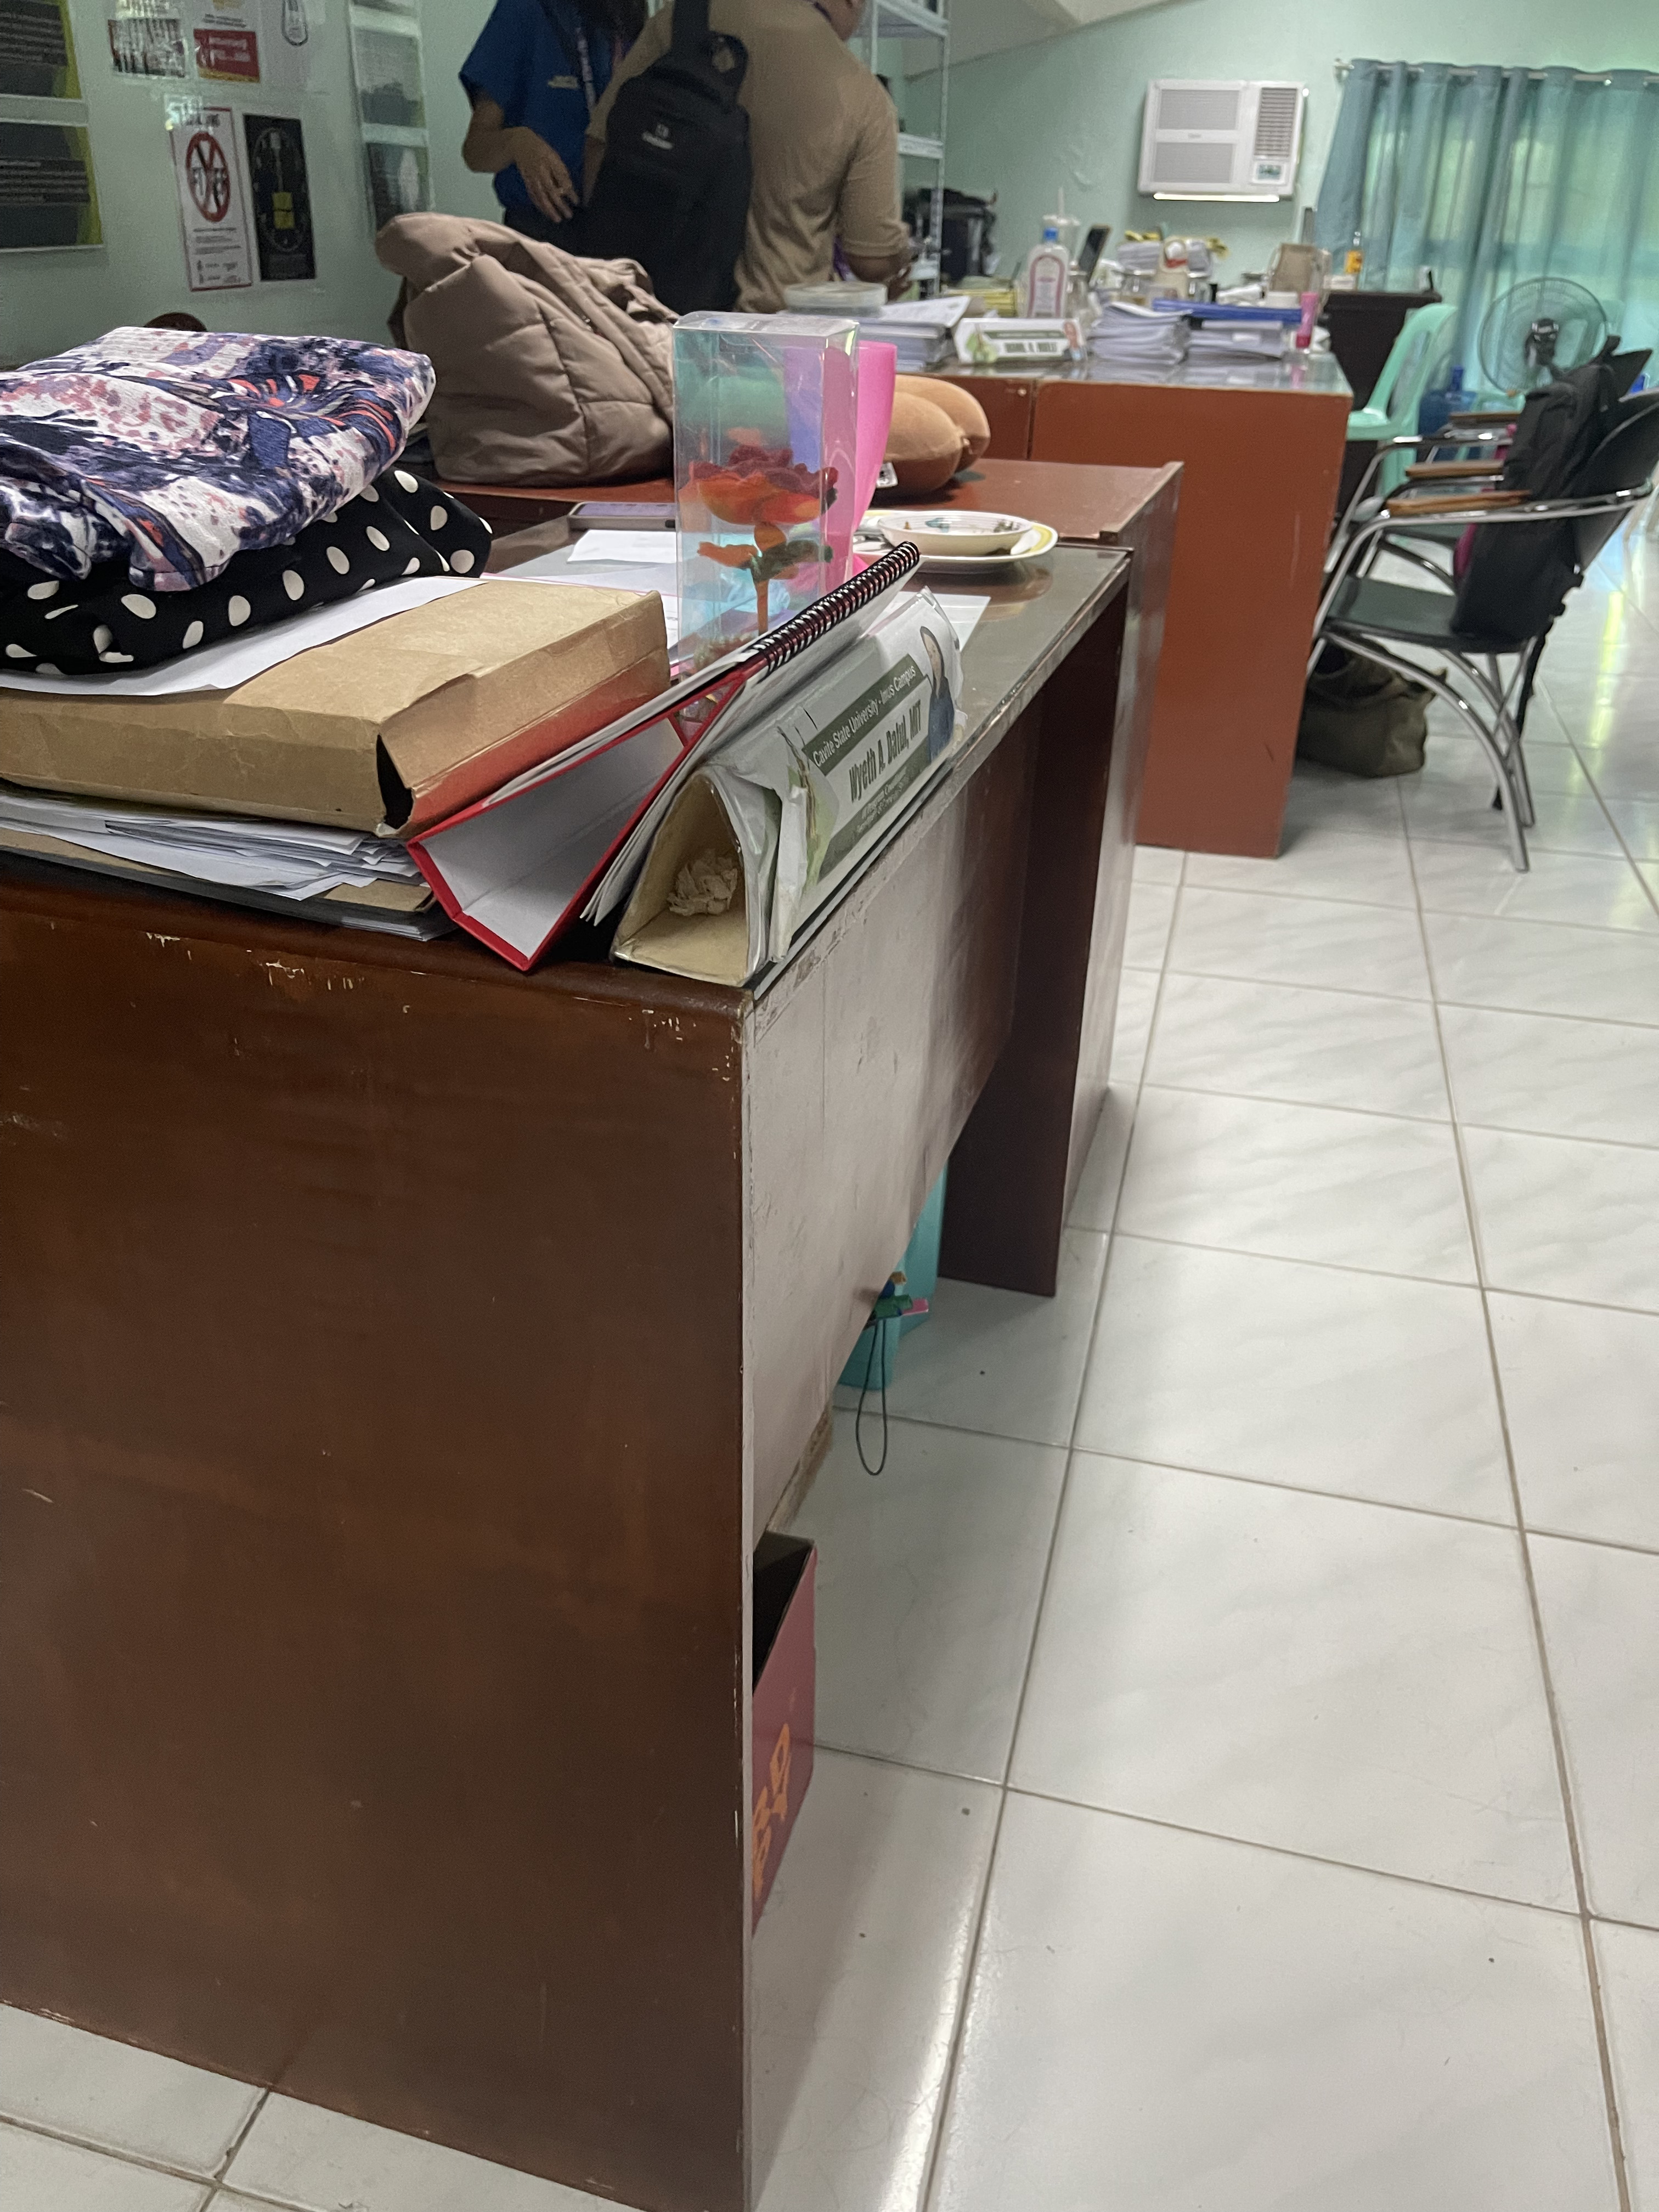table2: (0, 442, 1187, 2212)
